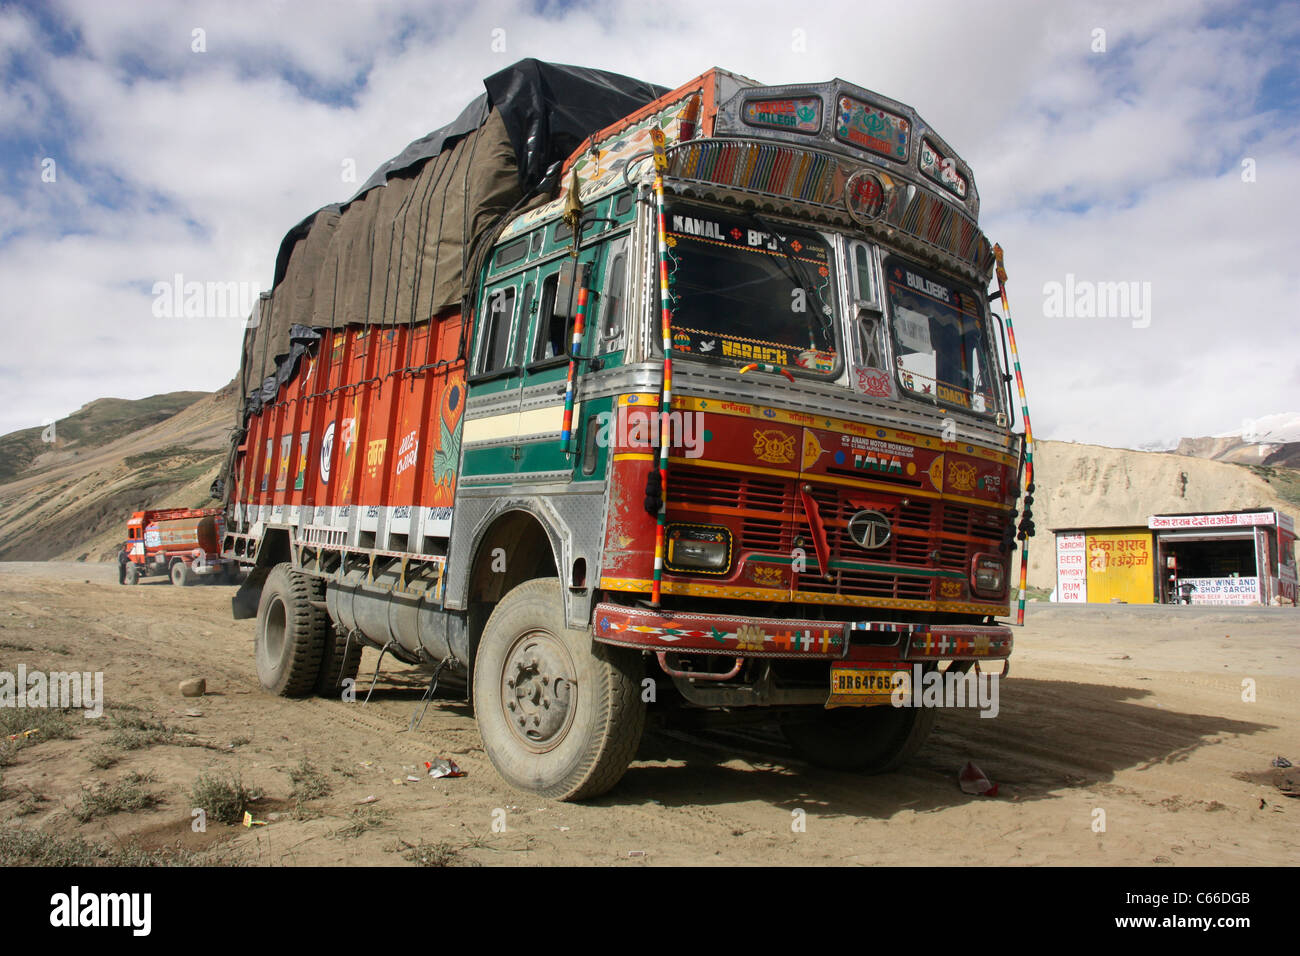truck: (253, 84, 1014, 803), (120, 506, 230, 589)
